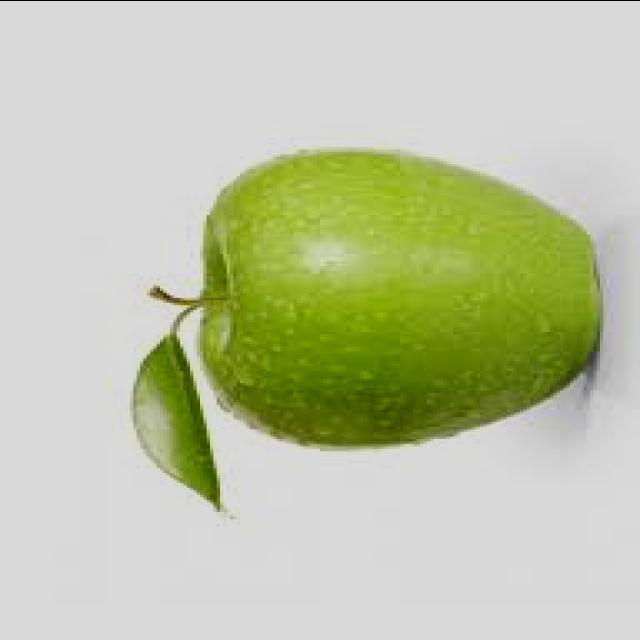non_orange: (33, 90, 638, 520)
